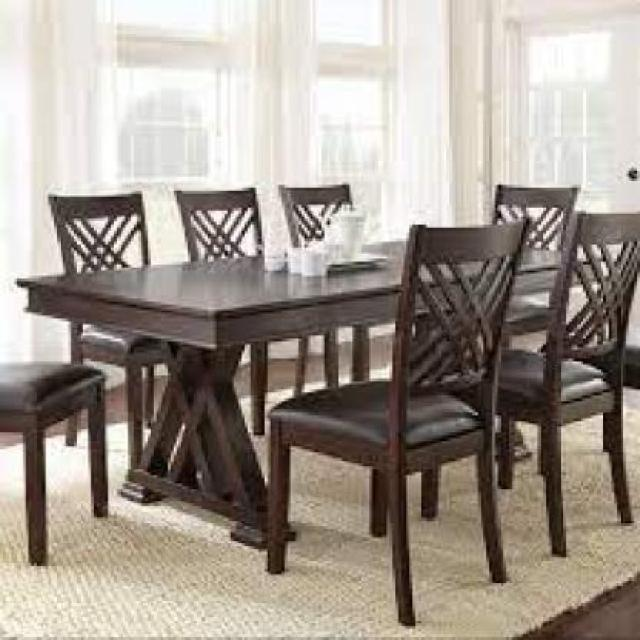tables: (12, 237, 591, 554)
